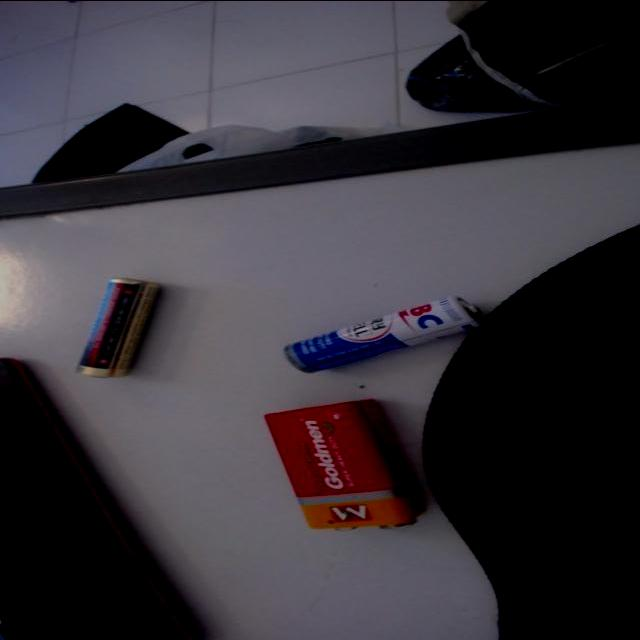9V: (240, 398, 430, 568)
AA: (62, 272, 183, 398)
AAA: (252, 277, 490, 391)
